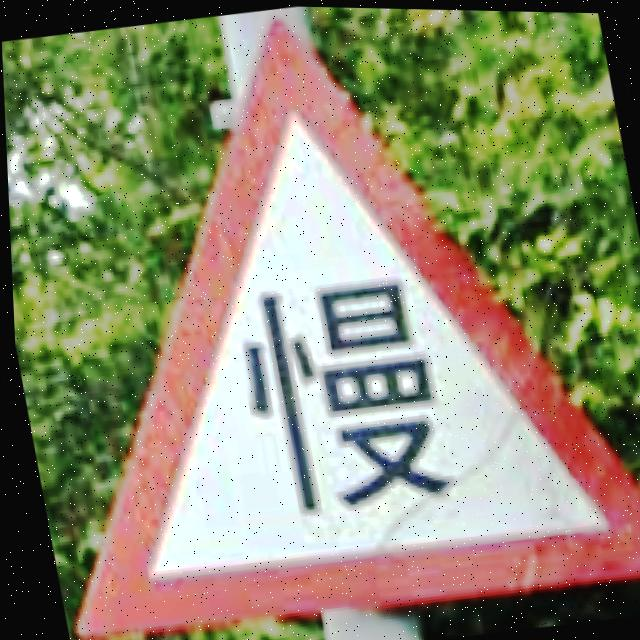slow: (71, 14, 640, 636)
